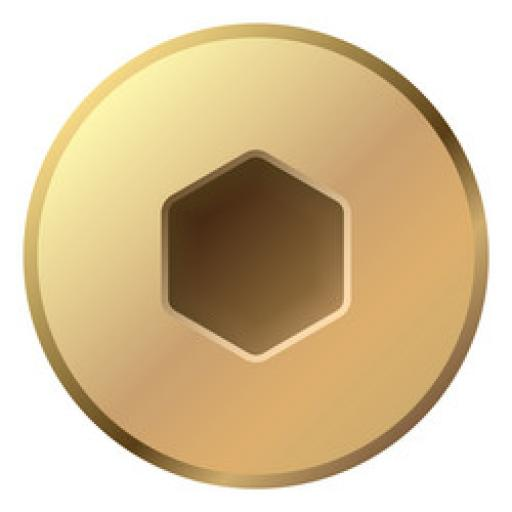Hex-Allen: (24, 19, 491, 491)
